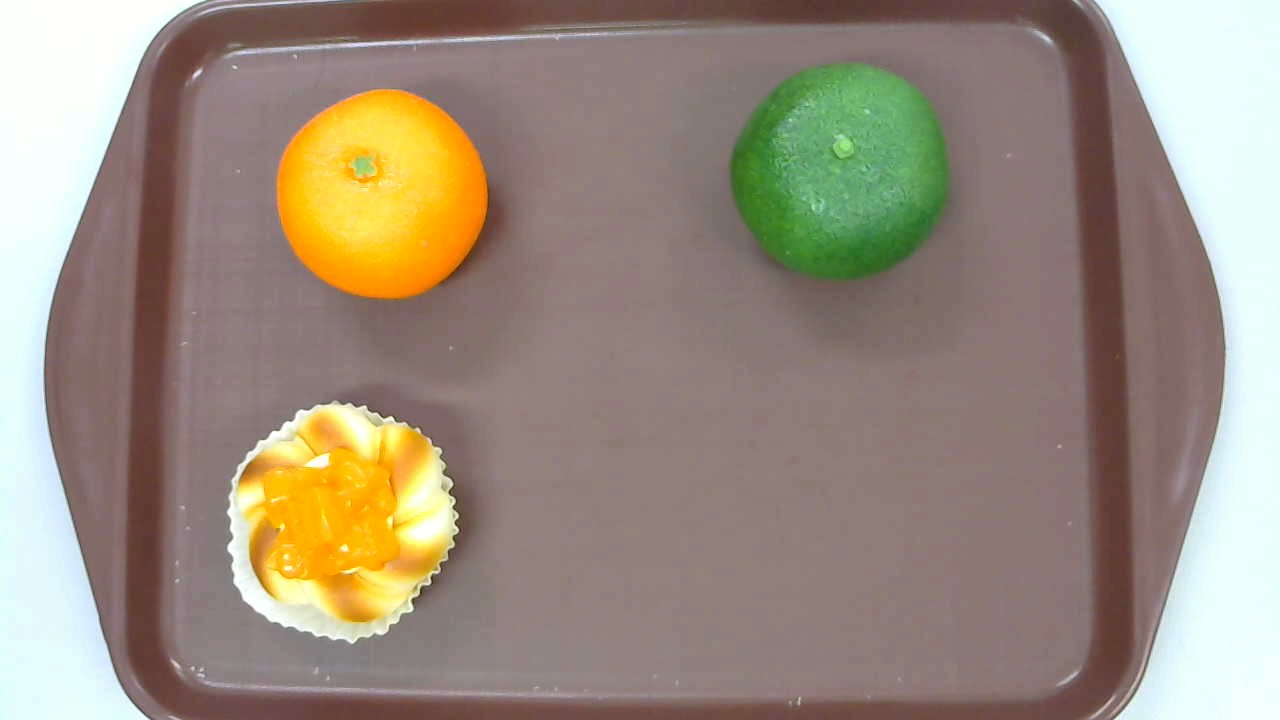green orange: (728, 63, 950, 283)
mango tart: (227, 399, 460, 643)
orange: (276, 87, 486, 301)
